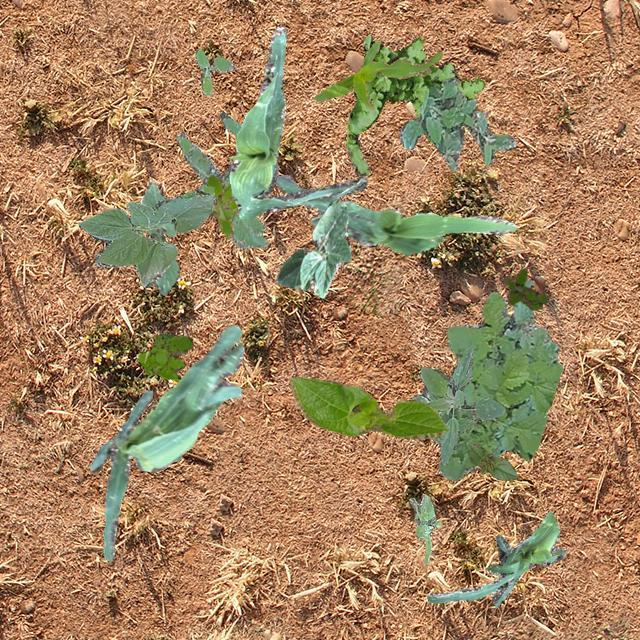crop: (90, 323, 242, 560), (228, 25, 366, 218), (274, 174, 514, 254), (78, 186, 214, 286), (426, 509, 566, 606), (410, 344, 504, 464), (290, 376, 448, 438), (314, 38, 442, 108), (276, 198, 350, 296), (140, 180, 178, 294), (468, 442, 518, 479)
weed: (432, 278, 562, 480), (346, 34, 484, 174), (175, 112, 268, 248), (398, 76, 516, 170), (138, 332, 192, 380), (408, 494, 441, 564), (206, 174, 238, 237), (194, 48, 234, 96), (502, 268, 546, 310)
